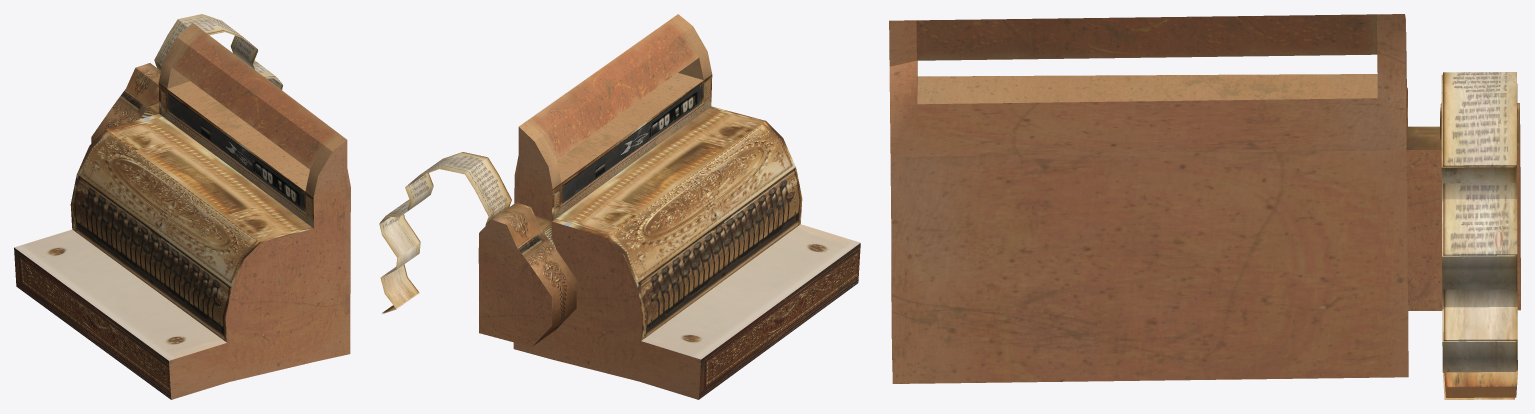
The model's file is CashMachine.fbx.
3 views of the same model, side by side, from view 1: azimuth 30°, elevation 25°; view 2: azimuth 150°, elevation 25°; view 3: azimuth 270°, elevation 25° (orthographic). The views are drawn at different scales.
Parts seen in each view (by area): view 1: Cash_Machine, Bill_upper; view 2: Cash_Machine, Bill_upper, Bill_under; view 3: Cash_Machine, Bill_upper, Bill_under.
Boxes of the visible parts, x1,y1,x2,y2 form: Cash_Machine: (14,23,350,399); Bill_upper: (154,14,282,89); Cash_Machine: (478,14,860,399); Bill_upper: (379,152,511,312); Bill_under: (380,168,511,313); Cash_Machine: (889,14,1520,383); Bill_upper: (1443,72,1517,397); Bill_under: (1441,74,1516,399).
Size of the model in its own units: 0.8112 by 0.6146 by 0.9519.
